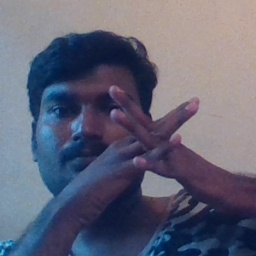W: (96, 77, 210, 207)
